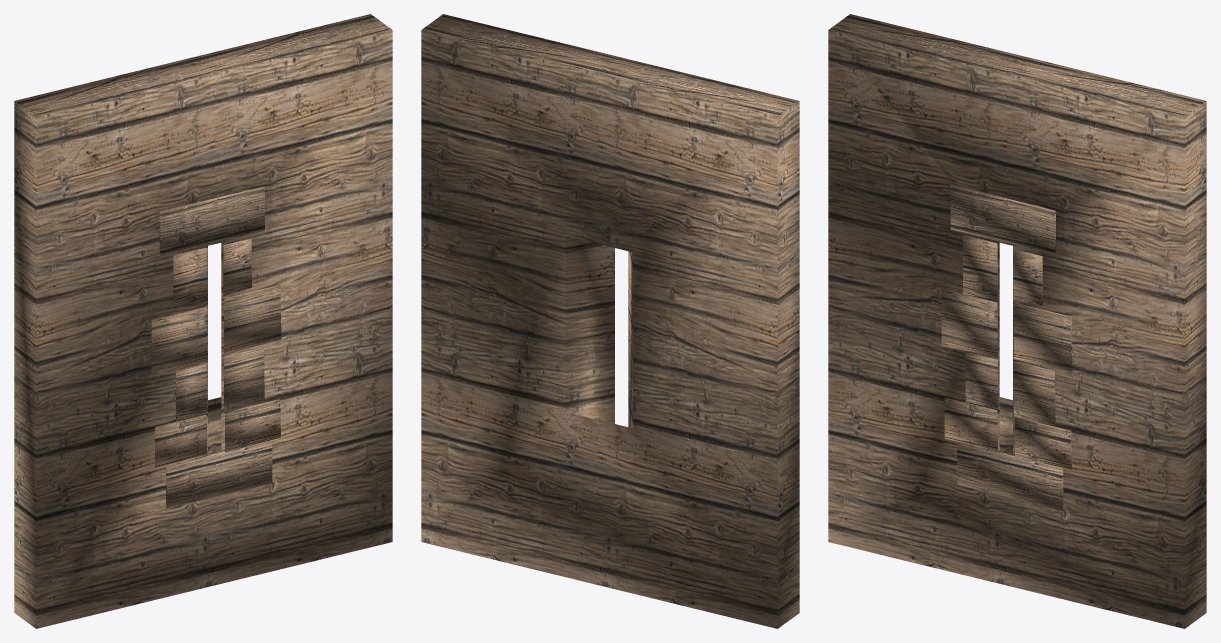
File: wood arrowslit.glb
3 views of the same model, side by side, from view 1: azimuth 30°, elevation 25°; view 2: azimuth 150°, elevation 25°; view 3: azimuth 330°, elevation 25° (orthographic).
Visible parts, largest first — view 1: Wall, Arrow Loop.002; view 2: Wall, Arrow Loop.002; view 3: Wall, Arrow Loop.002.
Boxes of the visible parts, box(x1,y1,x2,y2) form: Wall, Arrow Loop.002: box(14, 14, 392, 628); Wall, Arrow Loop.002: box(421, 14, 799, 628); Wall, Arrow Loop.002: box(828, 14, 1206, 628).
Bounding box in the file's own units: 2 × 2.74 × 0.225.
2 materials, 2 textured.
